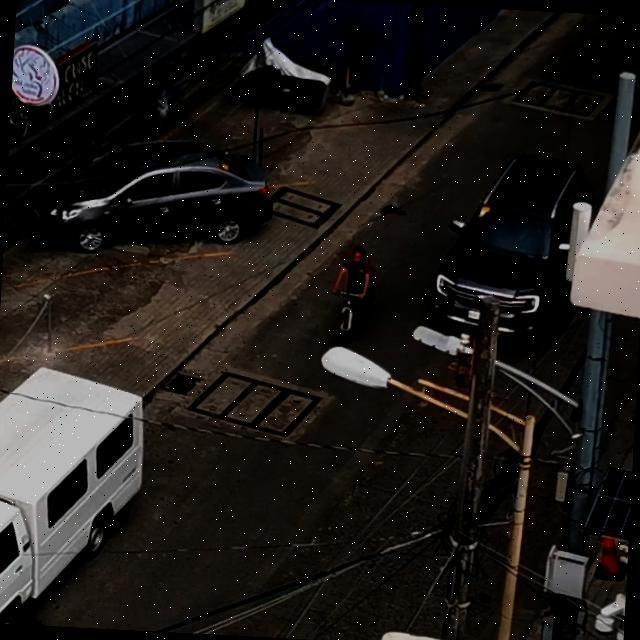Bike: (331, 240, 376, 338)
